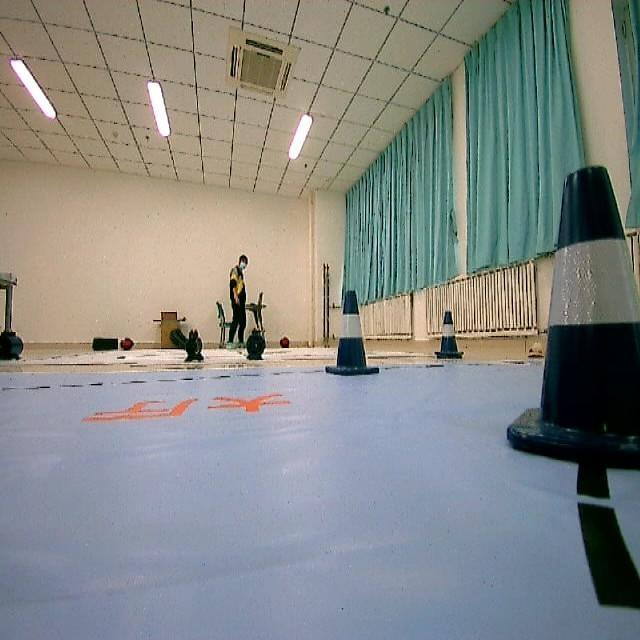obstacle: (506, 164, 640, 488), (329, 290, 383, 384), (430, 308, 472, 367)
